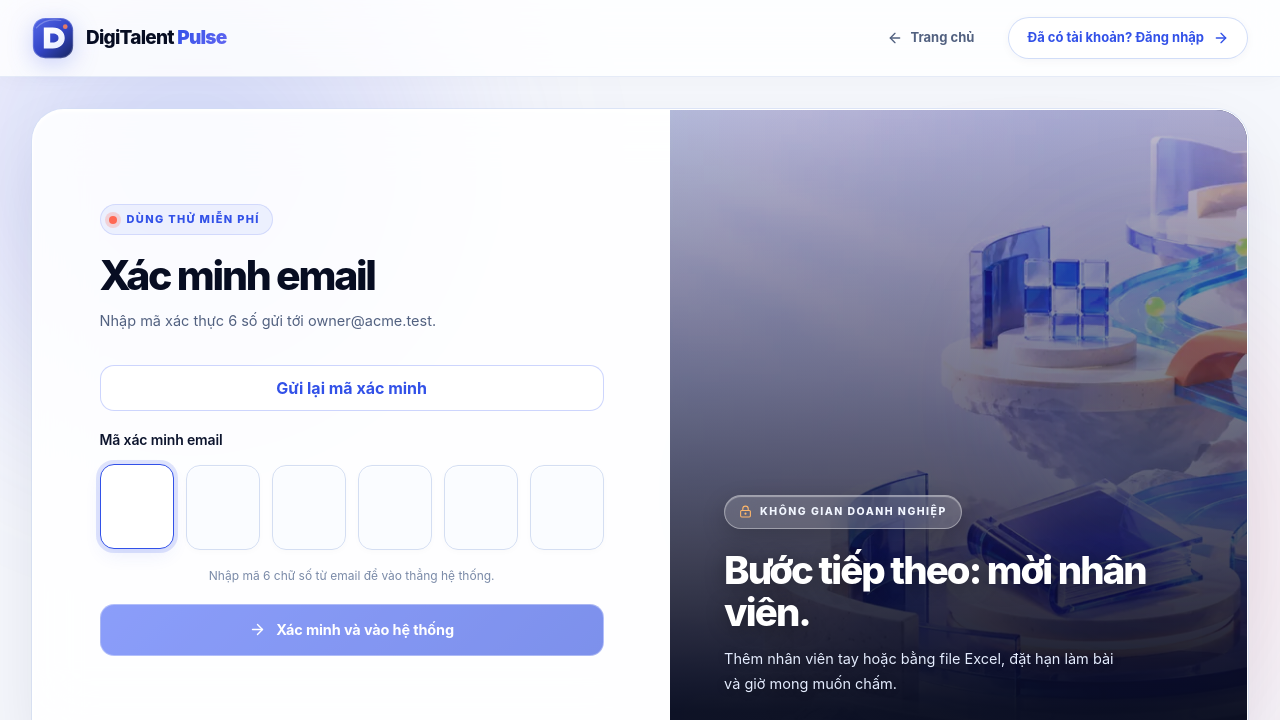
guided enterprise trial › resends an expired verification code without losing the email context
The width and height of the screenshot is (1280, 720).
Click the button "Gửi lại mã xác minh". click: (352, 388)
box: 100,365 -> 604,411
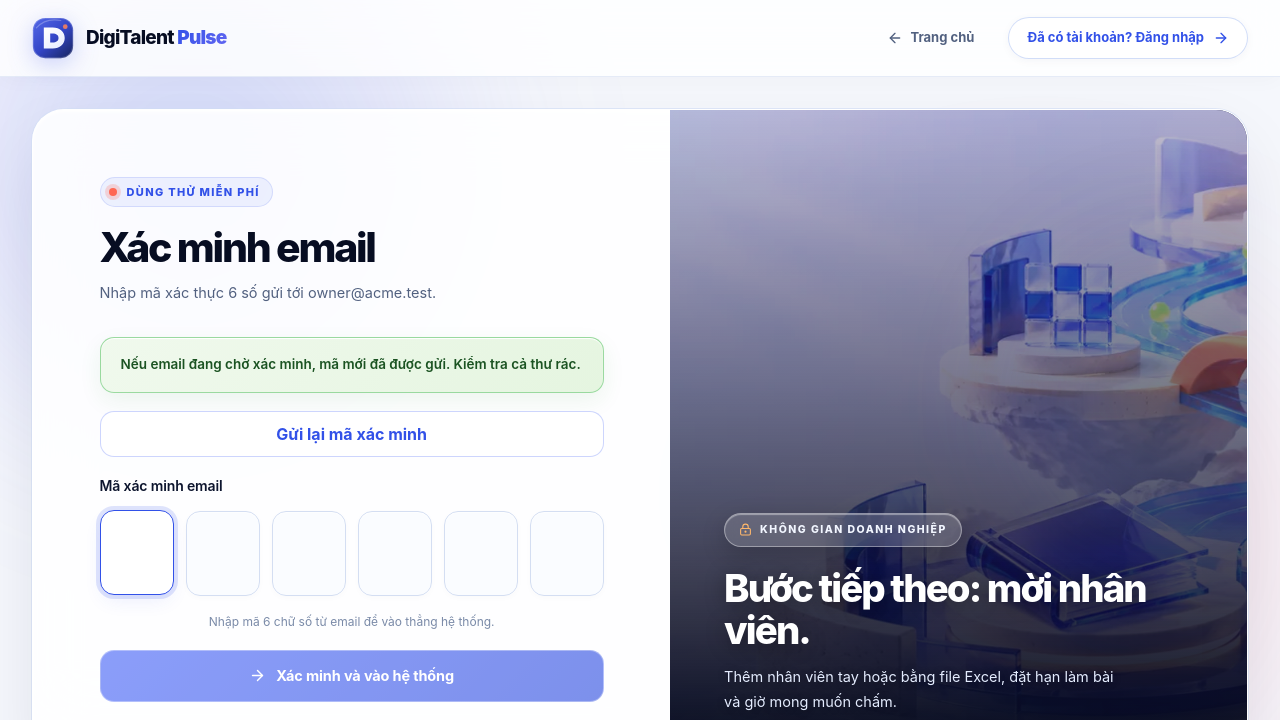
Expected: the field labelled "Mã xác minh email" is shown, 100,510 -> 174,595
Result: the text "Nếu email đang chờ xác minh, mã mới đã được gửi. Kiểm tra cả thư rác." is shown at 100,337 -> 604,393
